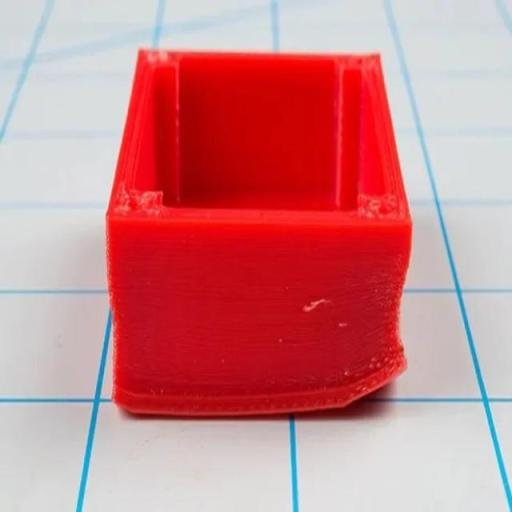cracks: (257, 354, 408, 422)
